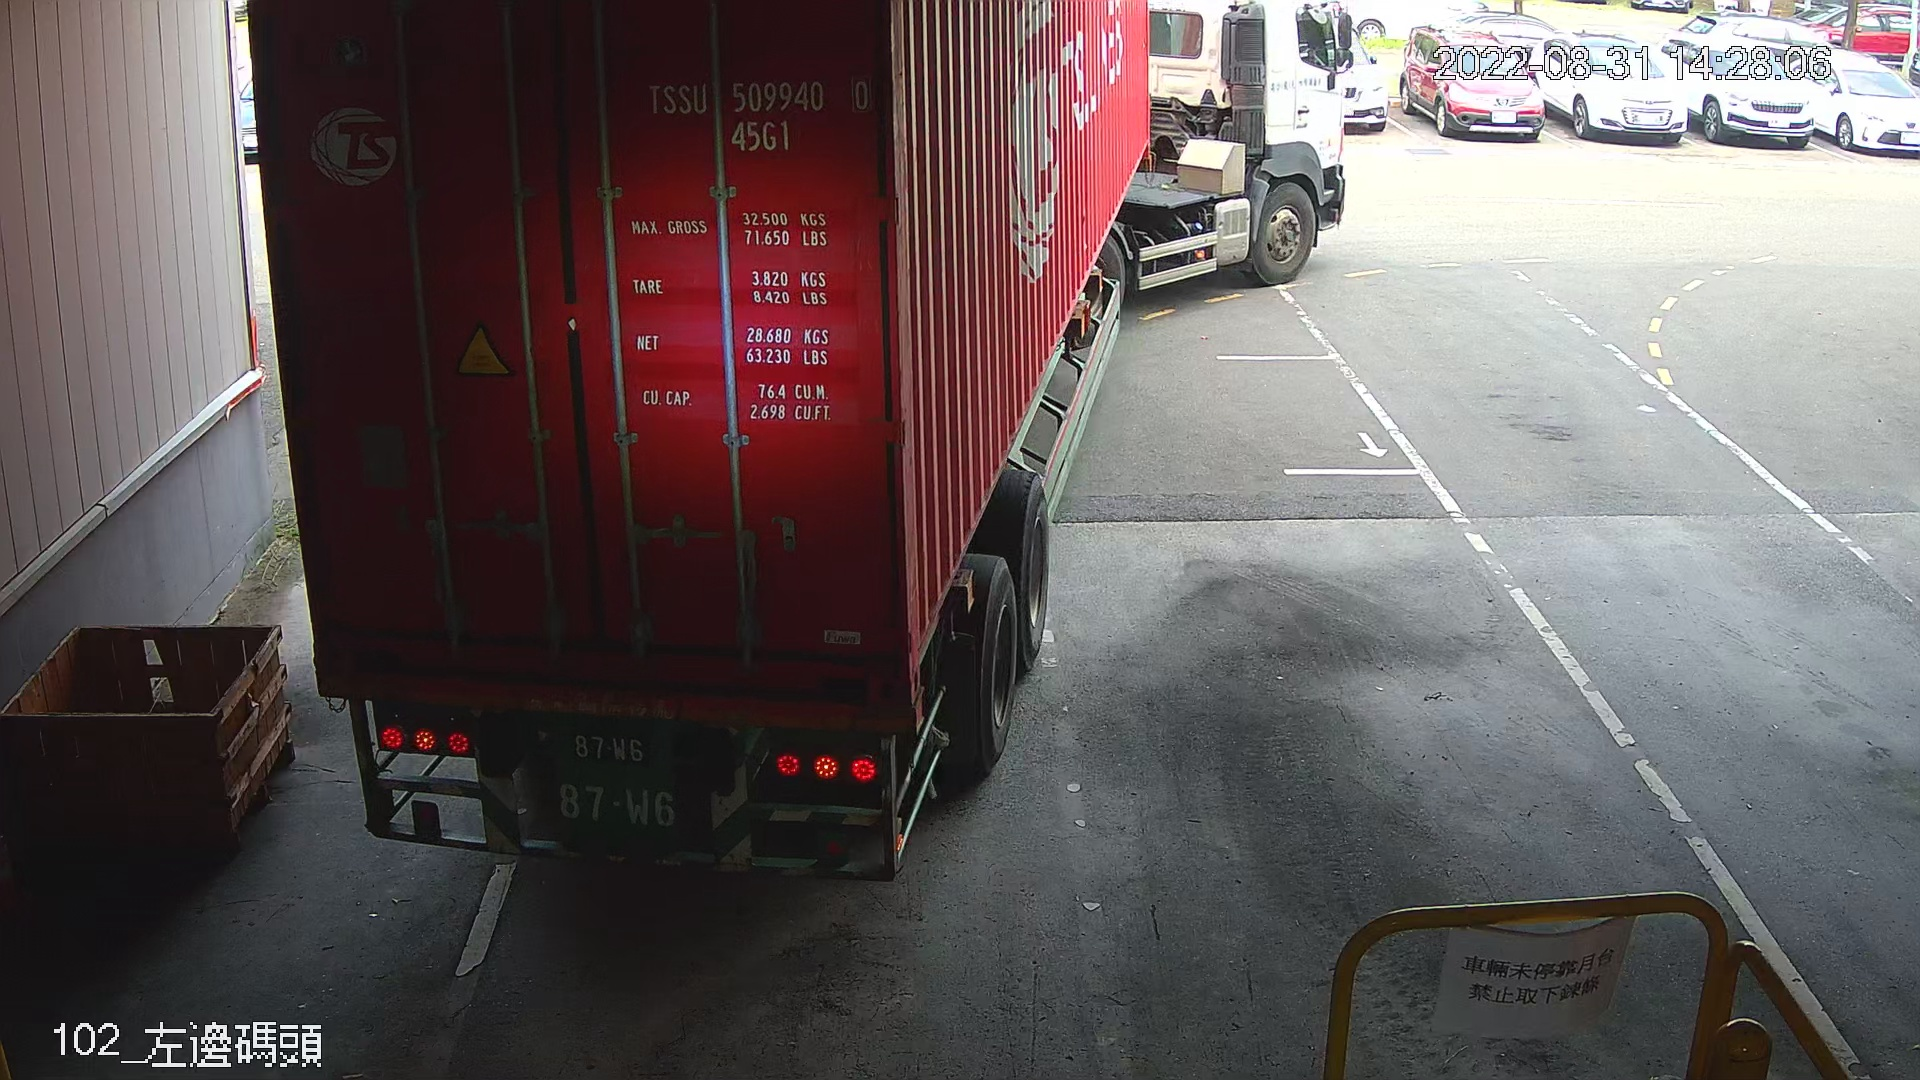container: (636, 70, 882, 160)
